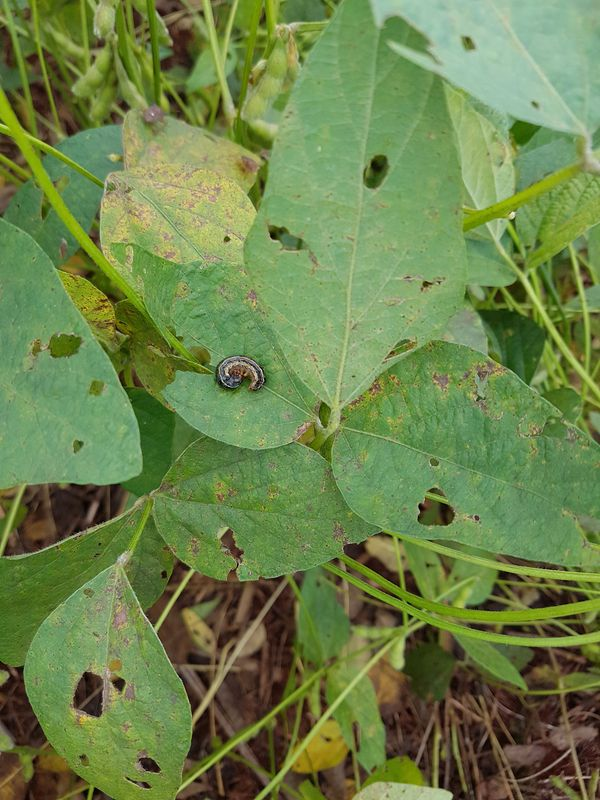Euschistus_heros_adulto: (137, 101, 172, 132), (234, 153, 261, 180)
Spodoptera_albula: (207, 348, 272, 402)
